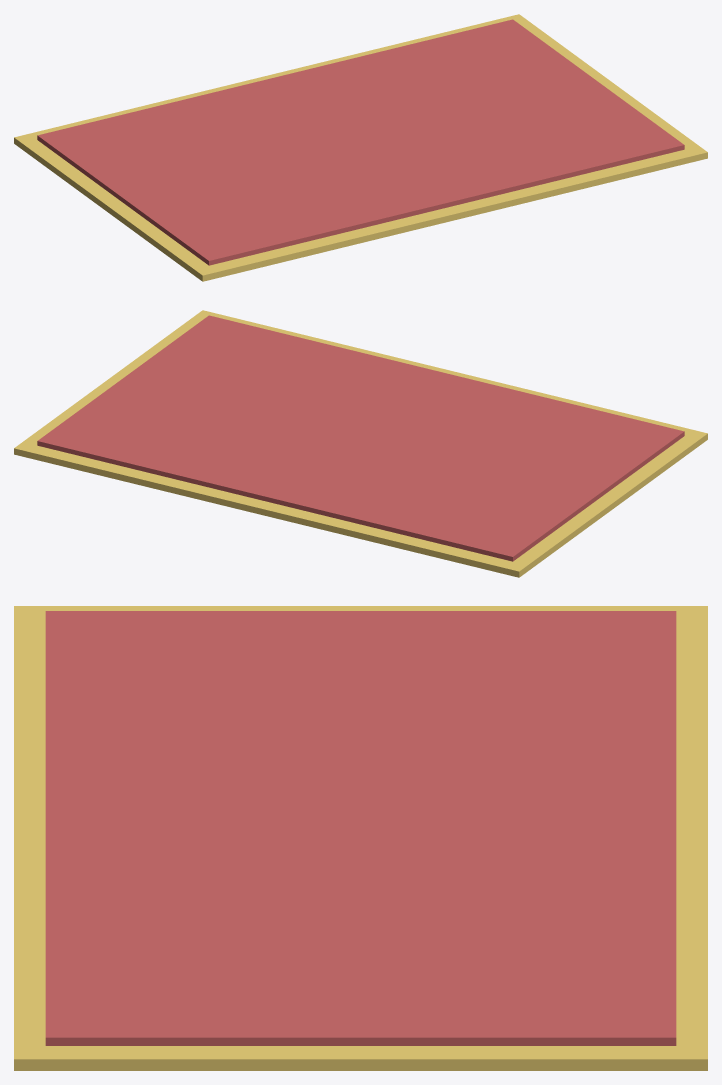
Rendered from rug.glb.
3 renders of one model, top to bottom at view 1: azimuth 30°, elevation 25°; view 2: azimuth 150°, elevation 25°; view 3: azimuth 270°, elevation 25°, orthographic. The views are drawn at different scales.
Visible parts, largest first — view 1: rug_00, rug_01; view 2: rug_00, rug_01; view 3: rug_00, rug_01.
Boxes of the visible parts, bbox=[...] form: rug_00: bbox=[37, 19, 684, 265]; rug_01: bbox=[14, 14, 707, 281]; rug_00: bbox=[37, 315, 684, 561]; rug_01: bbox=[14, 310, 707, 577]; rug_00: bbox=[45, 611, 676, 1045]; rug_01: bbox=[14, 606, 707, 1070].
Size of the model in its own units: 1.7 by 0.035 by 1.1.
